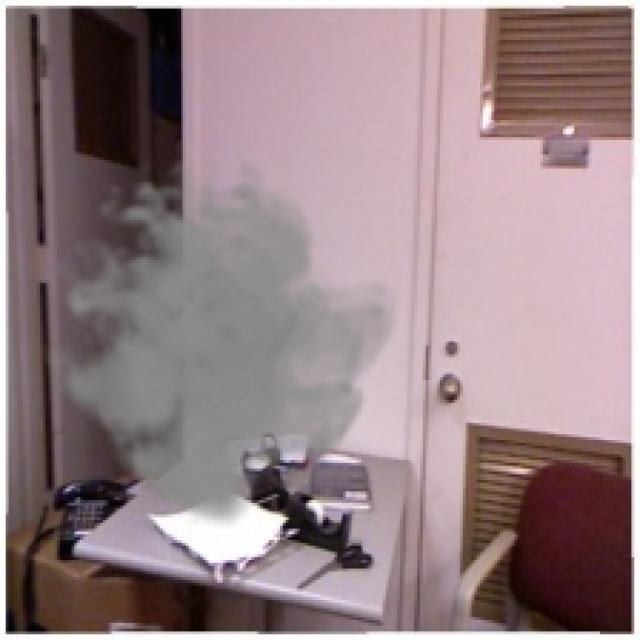Smoke: (28, 157, 403, 529)
